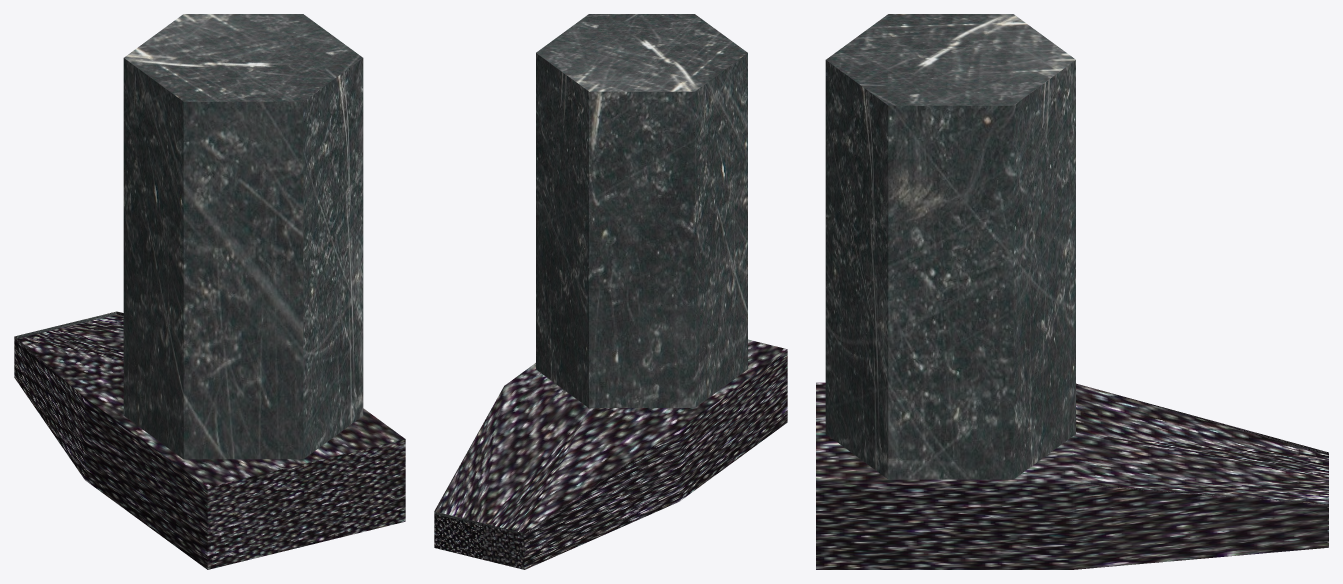
Rendered from leftleg.gltf.glb.
3 renders of one model, left to right at view 1: azimuth 30°, elevation 25°; view 2: azimuth 150°, elevation 25°; view 3: azimuth 270°, elevation 25°, orthographic. The views are drawn at different scales.
Visible parts, largest first — view 1: legs; view 2: legs; view 3: legs.
Part boxes in pixels (box(x1,y1,x2,y2)): legs: box(14, 14, 405, 569); legs: box(434, 14, 787, 569); legs: box(816, 14, 1328, 569).
Size of the model in its own units: 0.5725 by 1.22 by 1.23.
2 materials, 2 textured.
